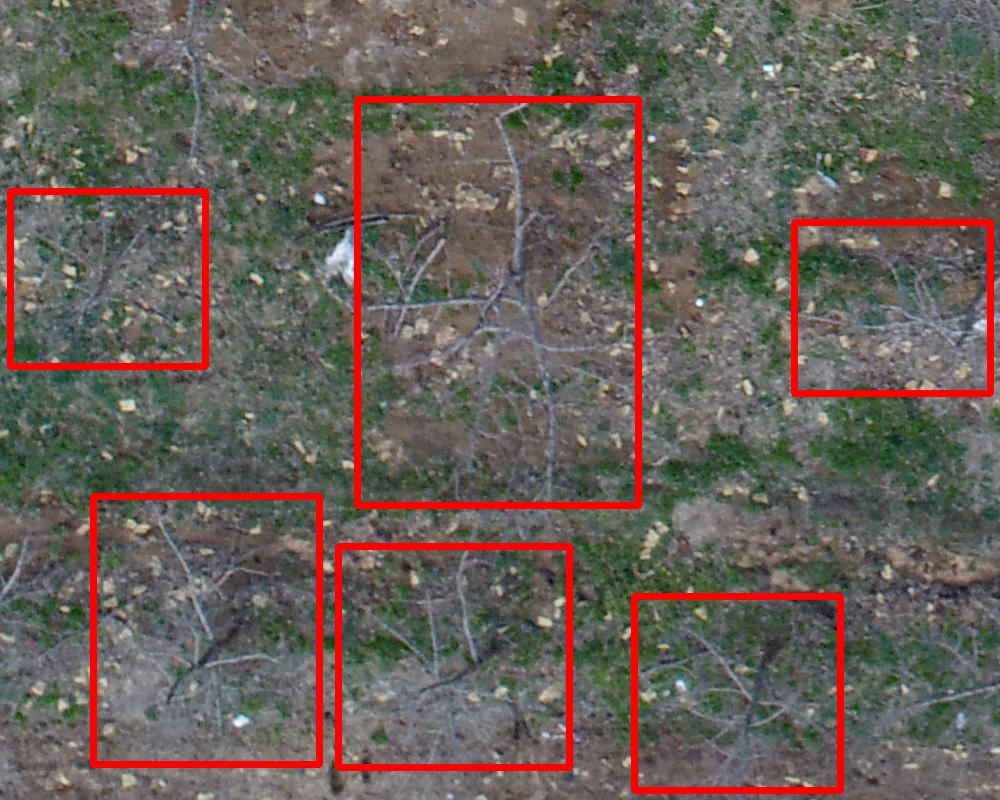apple: (357, 99, 638, 505), (93, 496, 319, 764), (338, 546, 569, 767), (634, 596, 840, 790), (10, 191, 205, 366), (794, 222, 990, 393)
